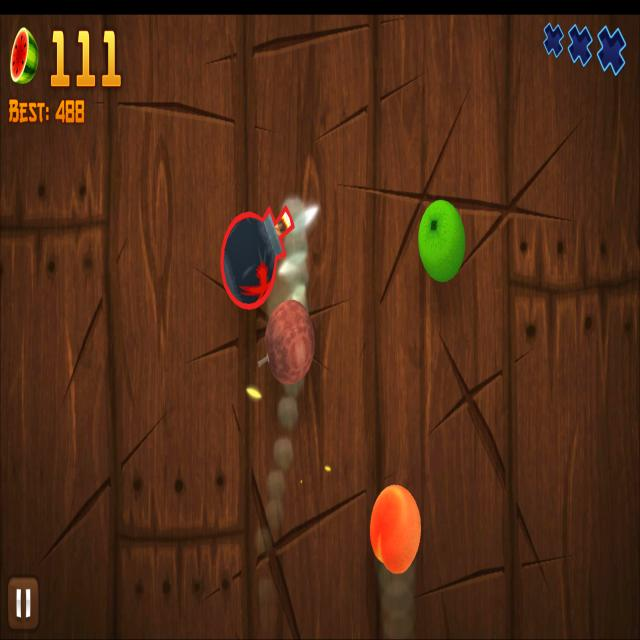bomb: (218, 204, 296, 310)
fruit: (369, 484, 422, 576), (265, 299, 315, 385), (418, 197, 467, 283)
